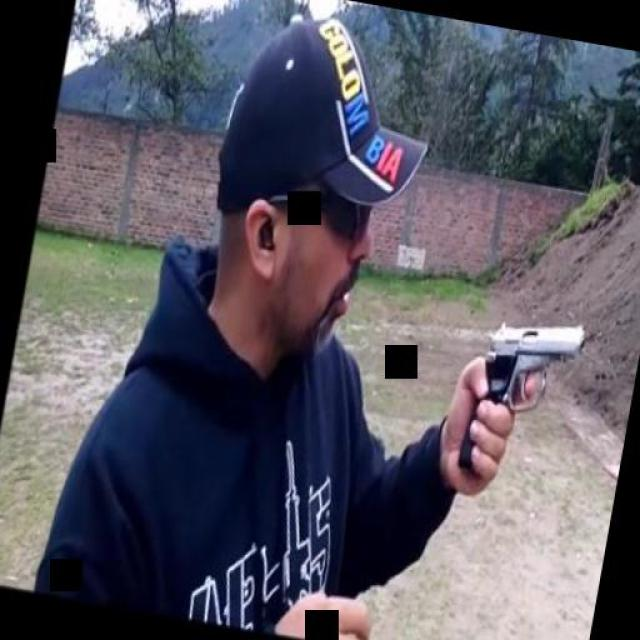gun: (454, 306, 588, 489)
